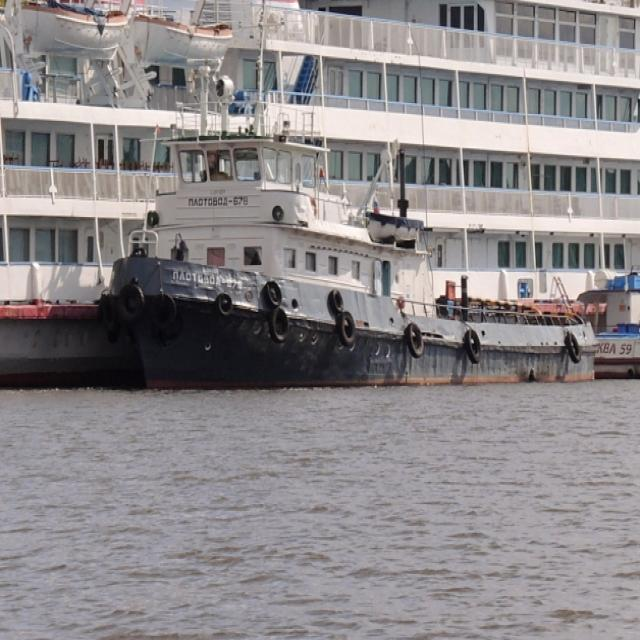tugboat: (95, 79, 600, 401)
